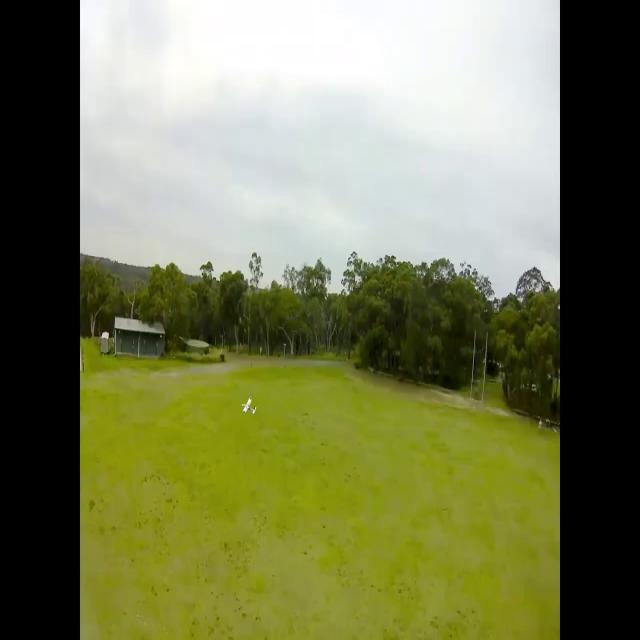iha: (242, 397, 256, 415)
